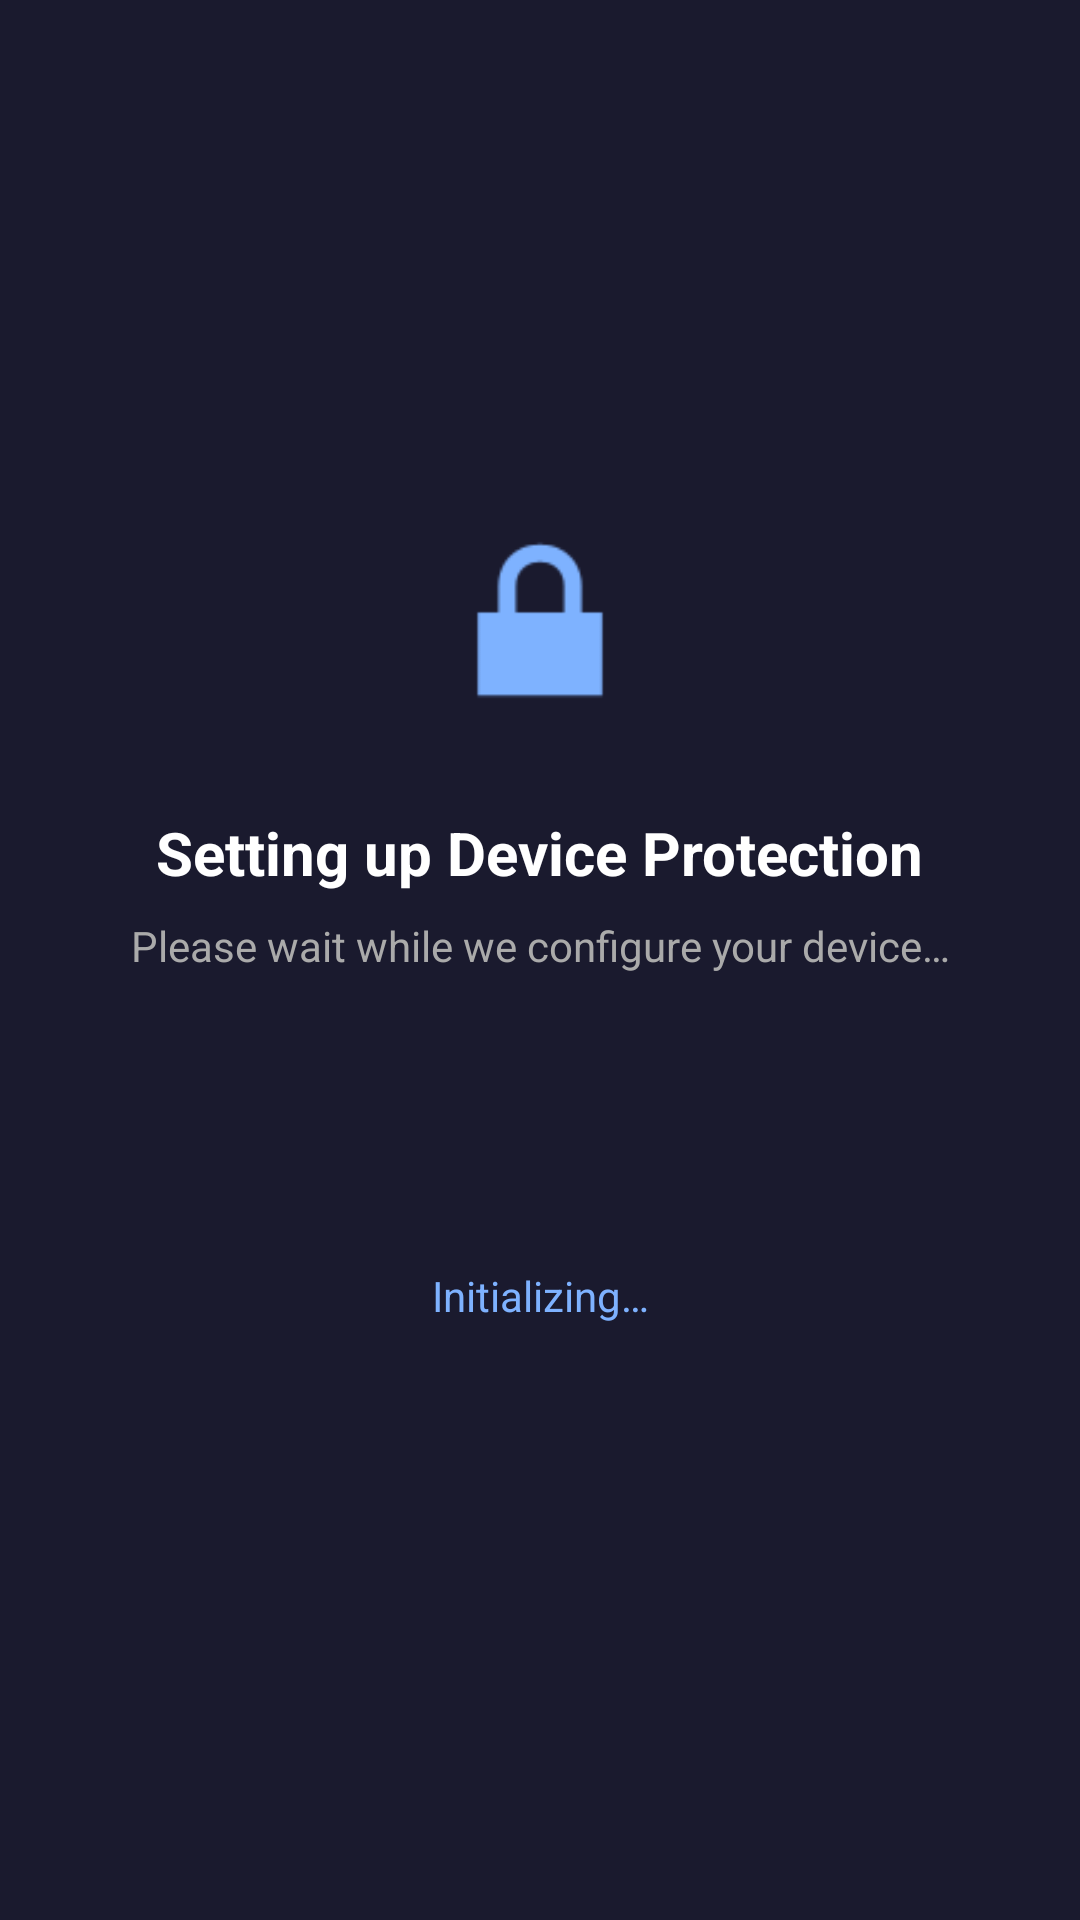

Point at icon controls on the screen. Image size 1080w x 1920h, points as (x=x, y=y).
lock: (x=540, y=620)
